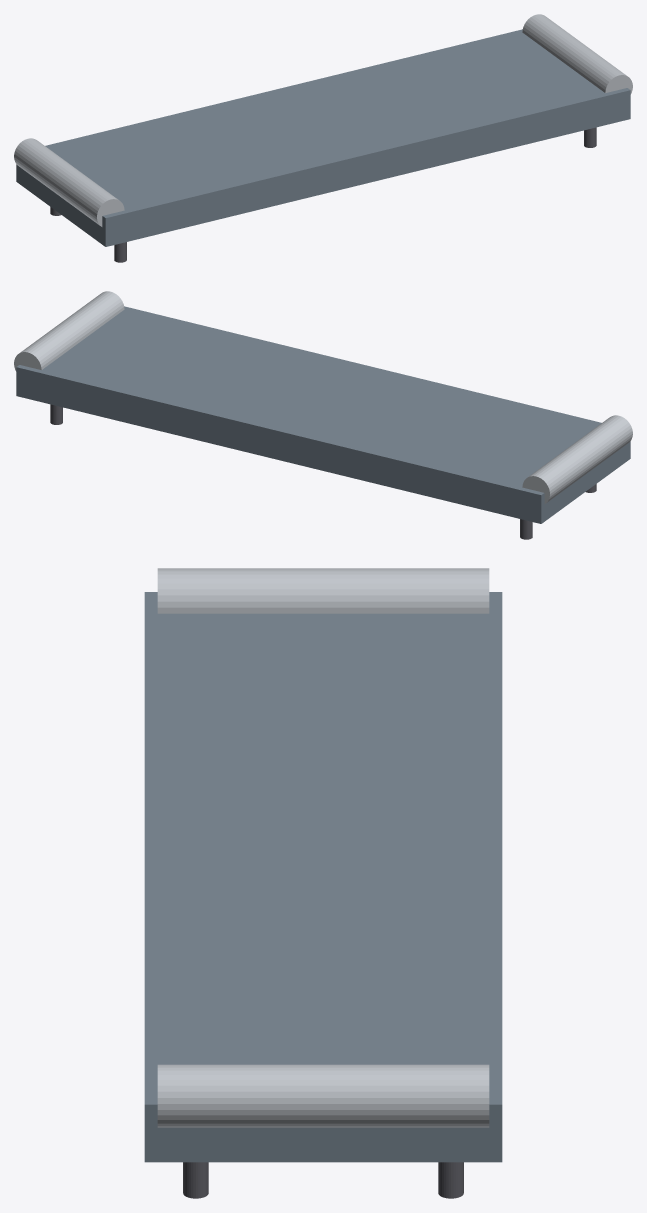
Rendered from conveyor.glb.
3 views of the same model, one above another, from view 1: azimuth 30°, elevation 25°; view 2: azimuth 150°, elevation 25°; view 3: azimuth 270°, elevation 25° (orthographic). The views are drawn at different scales.
Visible parts, largest first — view 1: conv_frame, conv_roll_a, conv_roll_b; view 2: conv_frame, conv_roll_a, conv_roll_b; view 3: conv_frame, conv_roll_b, conv_roll_a, conv_leg.002, conv_leg.003.
Boxes of the visible parts, <box> form: conv_frame: <box>16,29,630,246</box>; conv_roll_a: <box>14,138,124,226</box>; conv_roll_b: <box>522,14,632,94</box>; conv_frame: <box>16,306,630,523</box>; conv_roll_a: <box>522,415,632,503</box>; conv_roll_b: <box>14,291,124,371</box>; conv_frame: <box>144,592,502,1162</box>; conv_roll_b: <box>157,1064,489,1127</box>; conv_roll_a: <box>157,568,489,613</box>; conv_leg.002: <box>183,1162,208,1198</box>; conv_leg.003: <box>438,1162,463,1198</box>.
Bounding box in the file's own units: 1.94 × 0.25 × 0.56.
